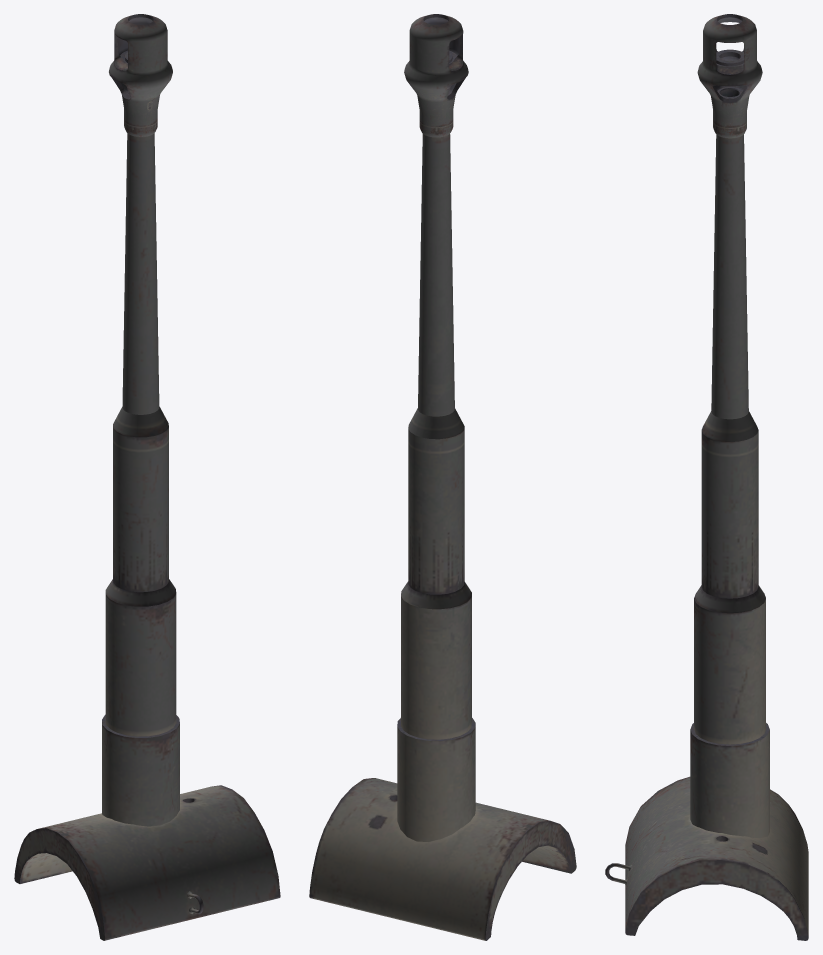
File: Gun_01.glb
3 views of the same model, side by side, from view 1: azimuth 30°, elevation 25°; view 2: azimuth 150°, elevation 25°; view 3: azimuth 270°, elevation 25° (orthographic).
Parts seen in each view (by area): view 1: set_0_group_0; view 2: set_0_group_0; view 3: set_0_group_0.
Part boxes in pixels (<box>): set_0_group_0: <box>14,14,280,940</box>; set_0_group_0: <box>309,14,576,940</box>; set_0_group_0: <box>605,14,808,940</box>.
Size of the model in its own units: 0.9279 by 4.39 by 0.9208.
Materials: 1 (1 with a texture image).
